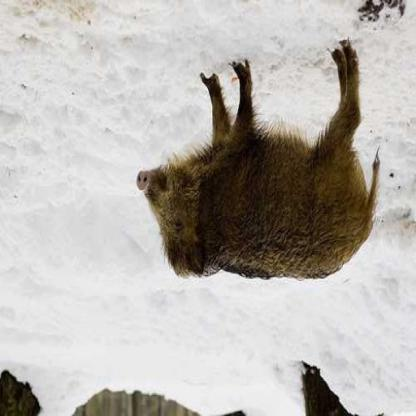boar: (114, 51, 398, 291)
